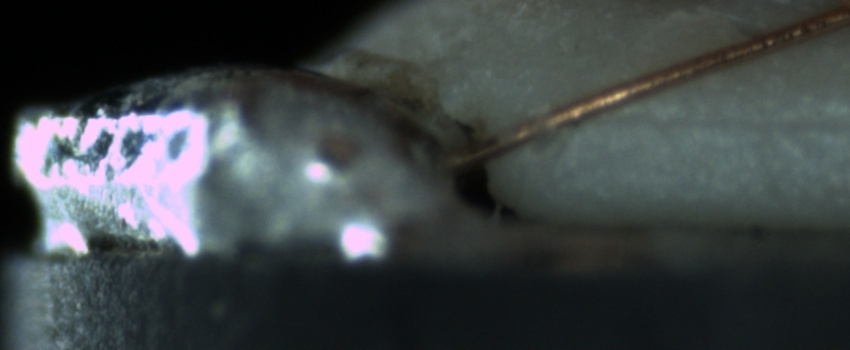DL: (577, 87, 845, 153)
